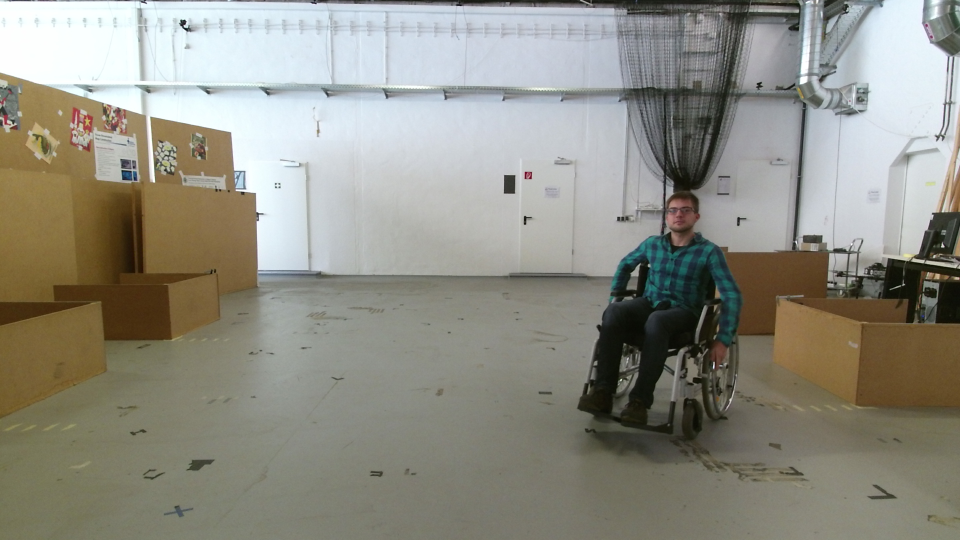wheelchair: (555, 189, 741, 452)
